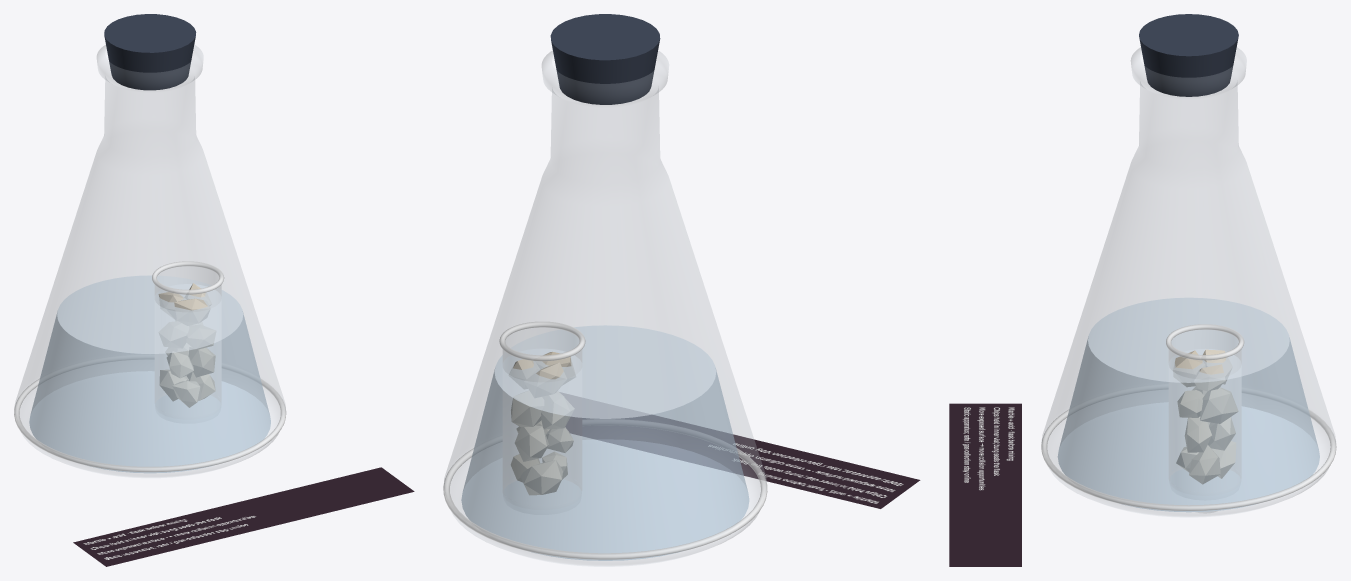
Rendered from reactions.glb.
The picture shows the model from 3 angles, left to right: view 1: azimuth 30°, elevation 25°; view 2: azimuth 150°, elevation 25°; view 3: azimuth 270°, elevation 25°; orthographic projection. The views are drawn at different scales.
Visible parts, largest first — view 1: reactions_authored_teaching_model, Scale_and_credit; view 2: reactions_authored_teaching_model, Scale_and_credit; view 3: reactions_authored_teaching_model, Scale_and_credit.
Boxes of the visible parts, x1,y1,x2,y2 form: reactions_authored_teaching_model: (14, 14, 286, 477); Scale_and_credit: (73, 467, 414, 566); reactions_authored_teaching_model: (443, 14, 767, 566); Scale_and_credit: (561, 393, 920, 508); reactions_authored_teaching_model: (1041, 14, 1336, 517); Scale_and_credit: (949, 403, 1021, 566).
Bounding box in the file's own units: 0.4 × 0.5152 × 0.4008.
Materials: 20 (1 with a texture image).
